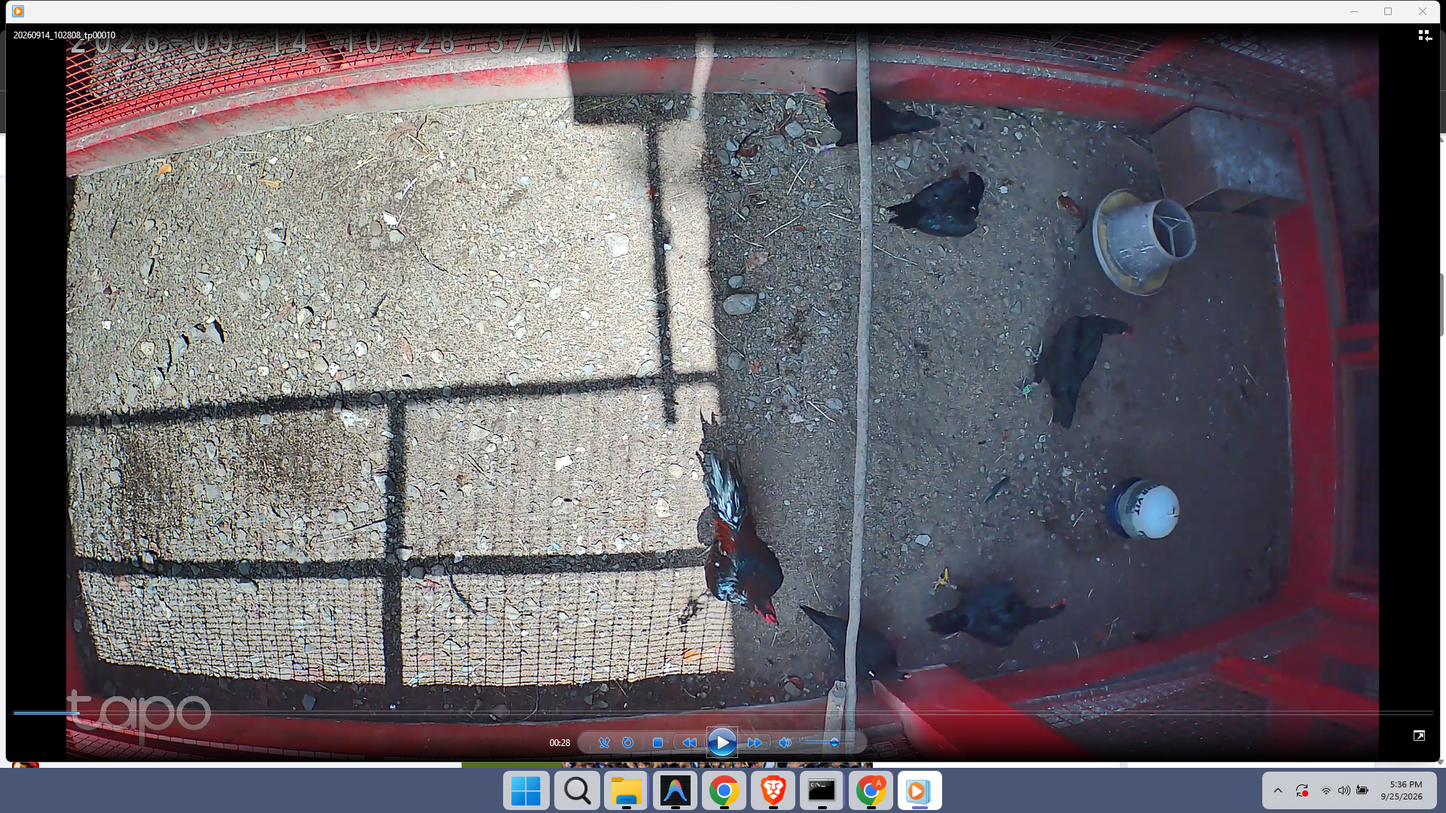Chicken: (923, 566, 1069, 653), (1025, 315, 1136, 429), (797, 84, 939, 157), (799, 600, 915, 684), (887, 171, 988, 239)
Drinker: (1104, 476, 1184, 540)
Feeder: (1091, 188, 1197, 296)
Leg_Band_Green: (1019, 382, 1033, 396)
Leg_Band_Violet: (823, 141, 830, 156)
Leg_Band_Yellow: (940, 564, 954, 586)
Rooster: (699, 448, 790, 632)
